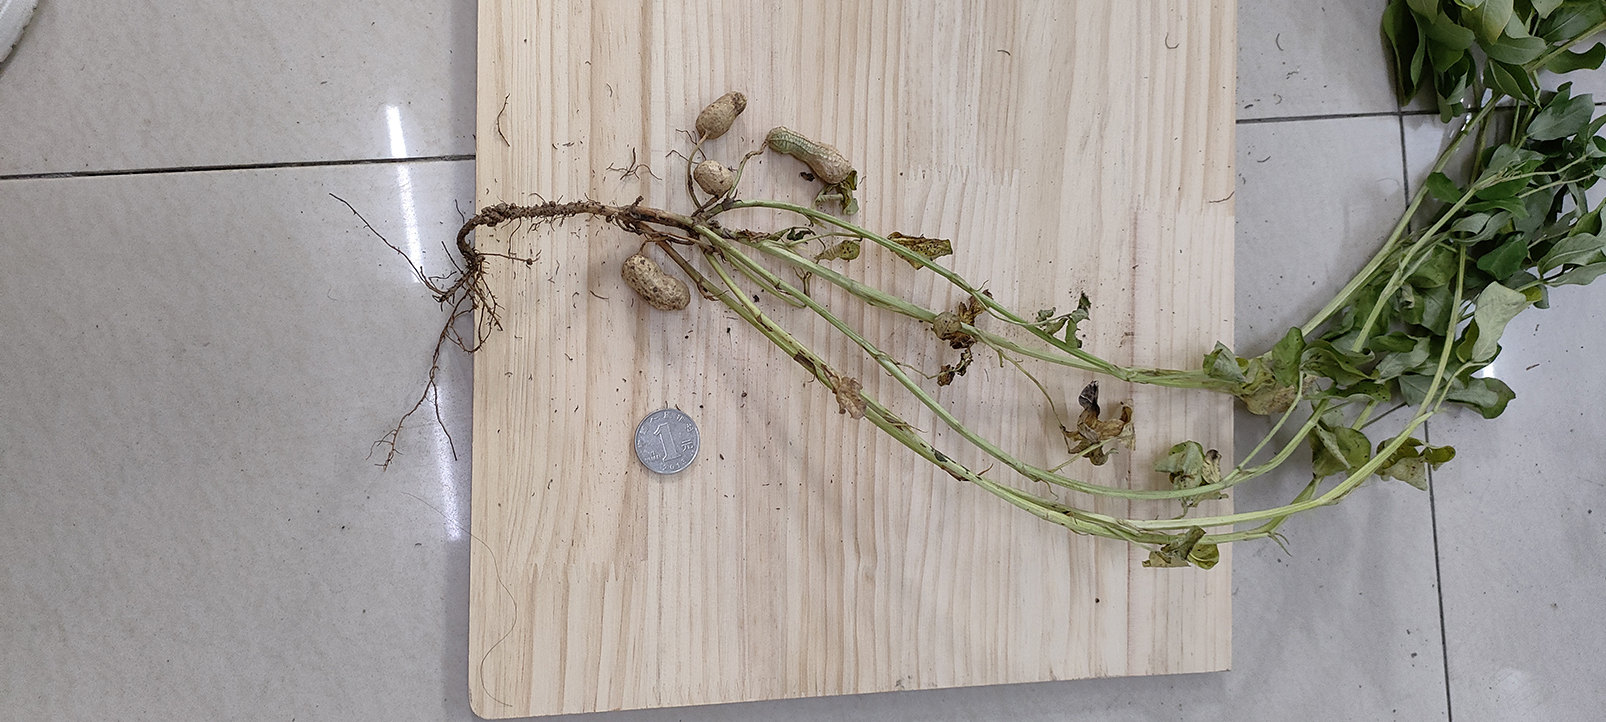h: (767, 127, 856, 187), (621, 255, 689, 313), (696, 91, 747, 138), (690, 158, 734, 197)
